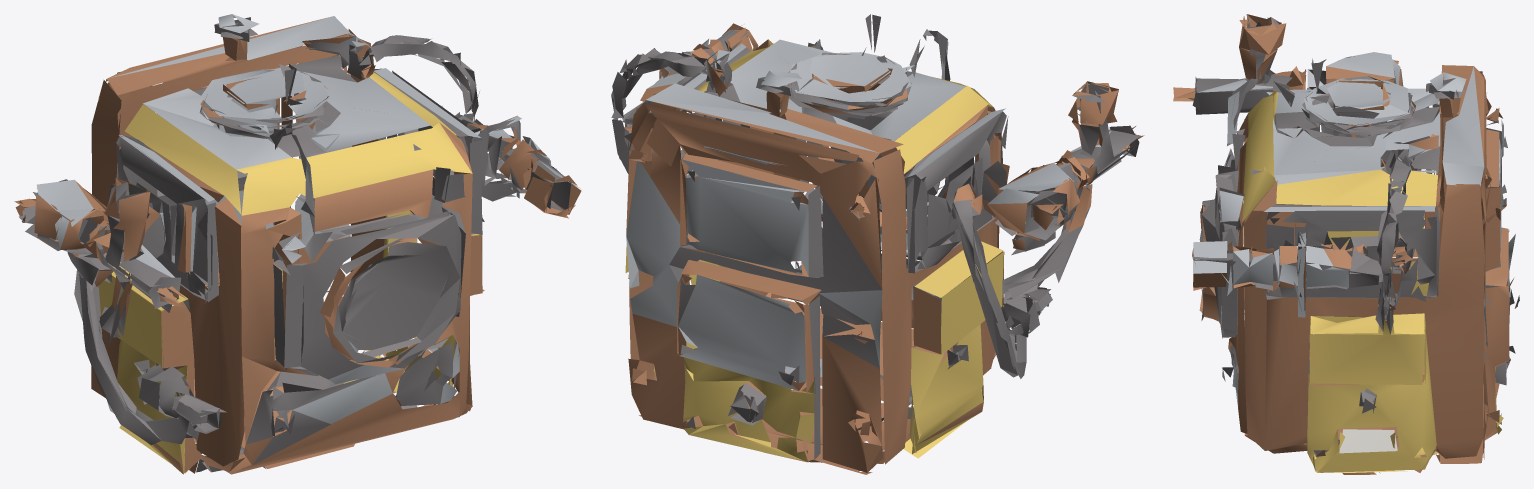
The model's file is mo_scavenger.glb.
The picture shows the model from 3 angles, left to right: view 1: azimuth 30°, elevation 25°; view 2: azimuth 150°, elevation 25°; view 3: azimuth 270°, elevation 25°; orthographic projection. The views are drawn at different scales.
Visible parts, largest first — view 1: mo_scavenger; view 2: mo_scavenger; view 3: mo_scavenger.
Part boxes in pixels (x1=…): mo_scavenger: x1=14, y1=14, x2=581, y2=474; mo_scavenger: x1=611, y1=14, x2=1144, y2=474; mo_scavenger: x1=1173, y1=14, x2=1519, y2=474.
Bounding box in the file's own units: 0.2 × 0.1655 × 0.1461.
